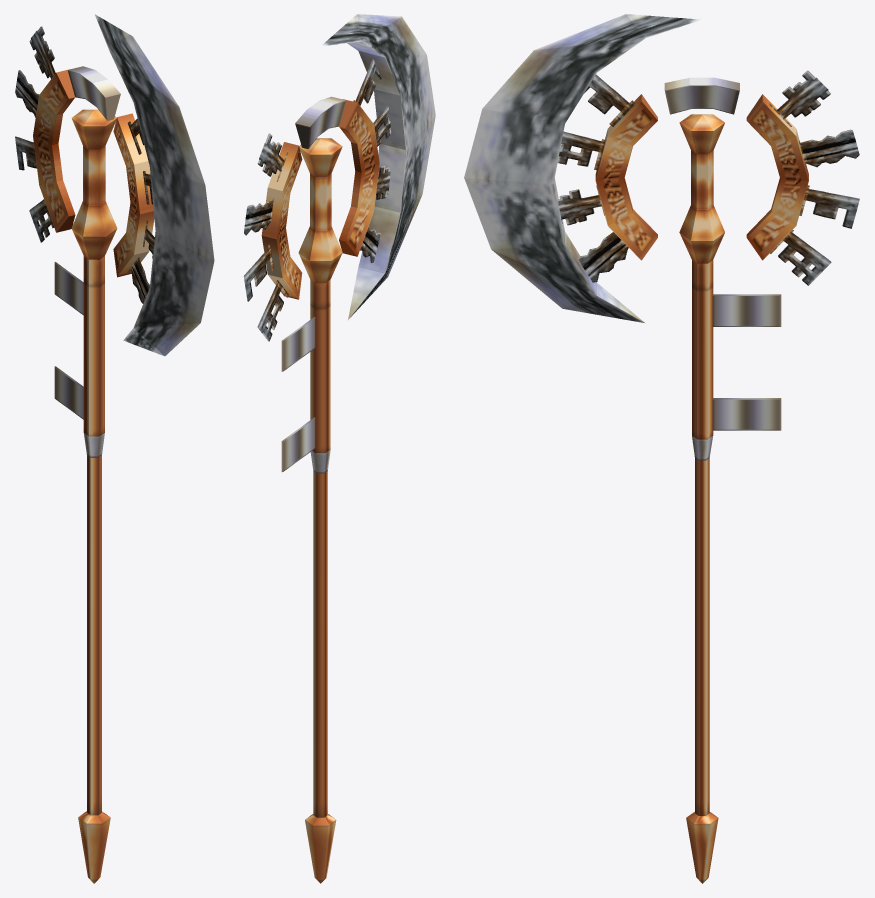
The model's file is heavyaxeman06_1.obj.
The picture shows the model from 3 angles, left to right: view 1: azimuth 30°, elevation 25°; view 2: azimuth 150°, elevation 25°; view 3: azimuth 270°, elevation 25°; orthographic projection. The views are drawn at different scales.
Parts seen in each view (by area): view 1: heavyaxeman06_1; view 2: heavyaxeman06_1; view 3: heavyaxeman06_1.
Part boxes in pixels (x1=…): heavyaxeman06_1: x1=15, y1=14, x2=214, y2=883; heavyaxeman06_1: x1=243, y1=14, x2=435, y2=883; heavyaxeman06_1: x1=464, y1=14, x2=859, y2=883.
Bounding box in the file's own units: 0.1113 × 2.7 × 1.12.
